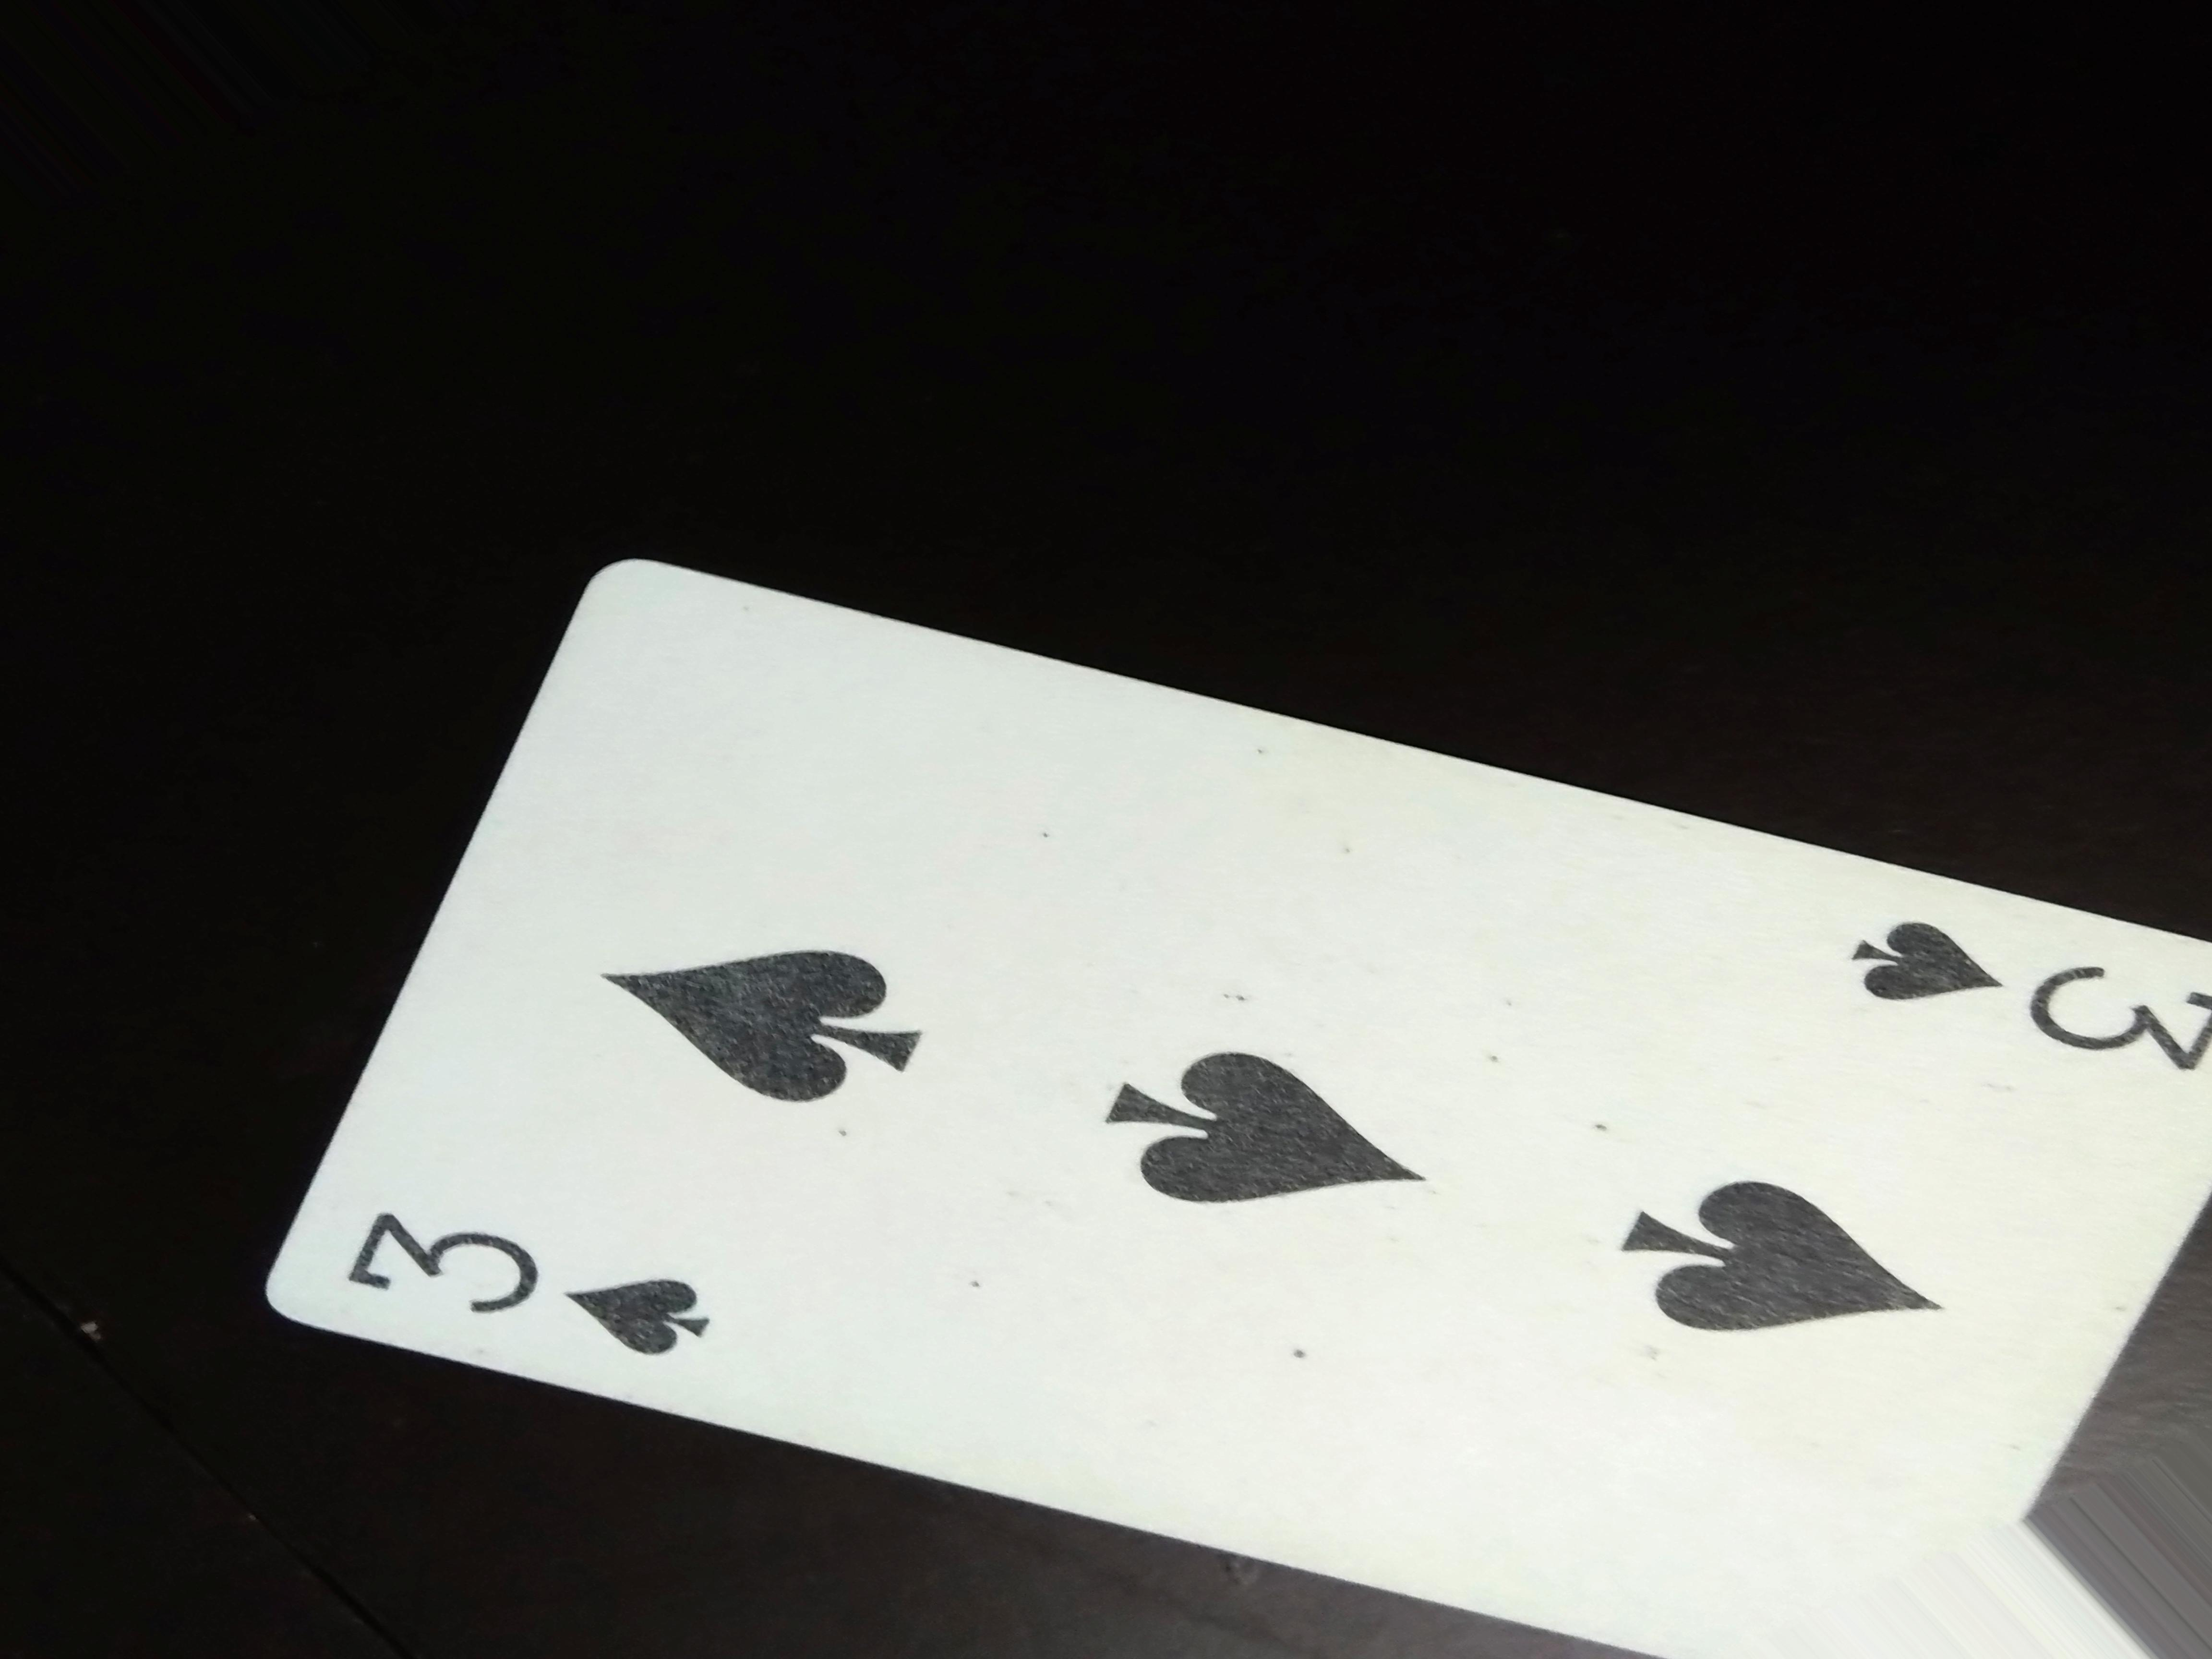3S: (345, 1209, 723, 1371)
